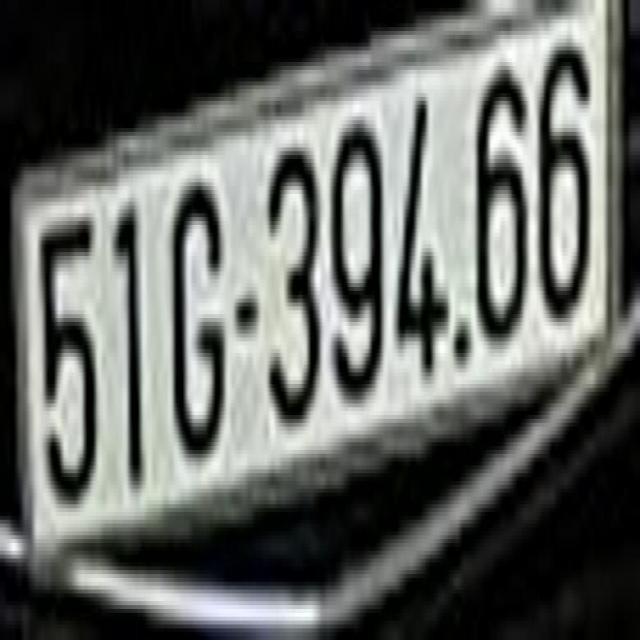1: (116, 194, 148, 493)
3: (276, 174, 321, 438)
4: (397, 78, 448, 392)
5: (39, 202, 96, 512)
6: (536, 16, 590, 302), (476, 74, 524, 334)
9: (332, 116, 382, 404)
G: (178, 163, 226, 458)
